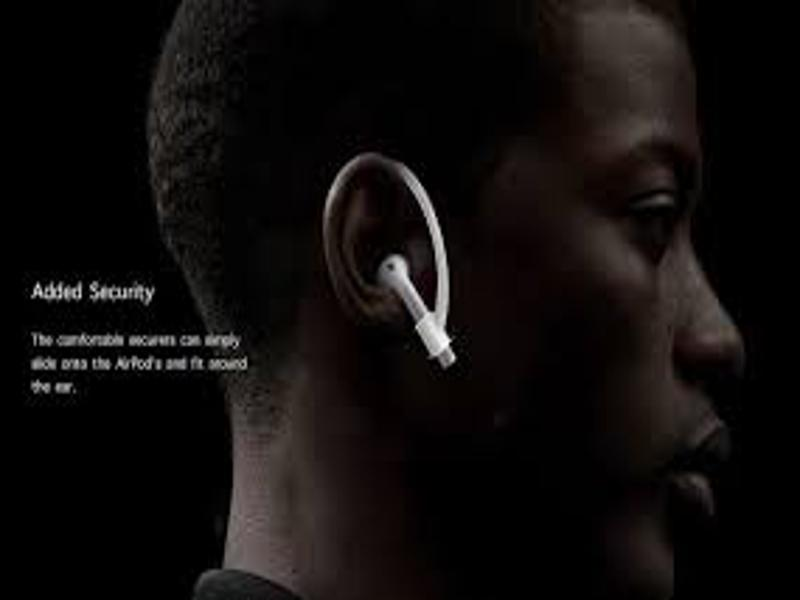headphone: (376, 256, 458, 368)
